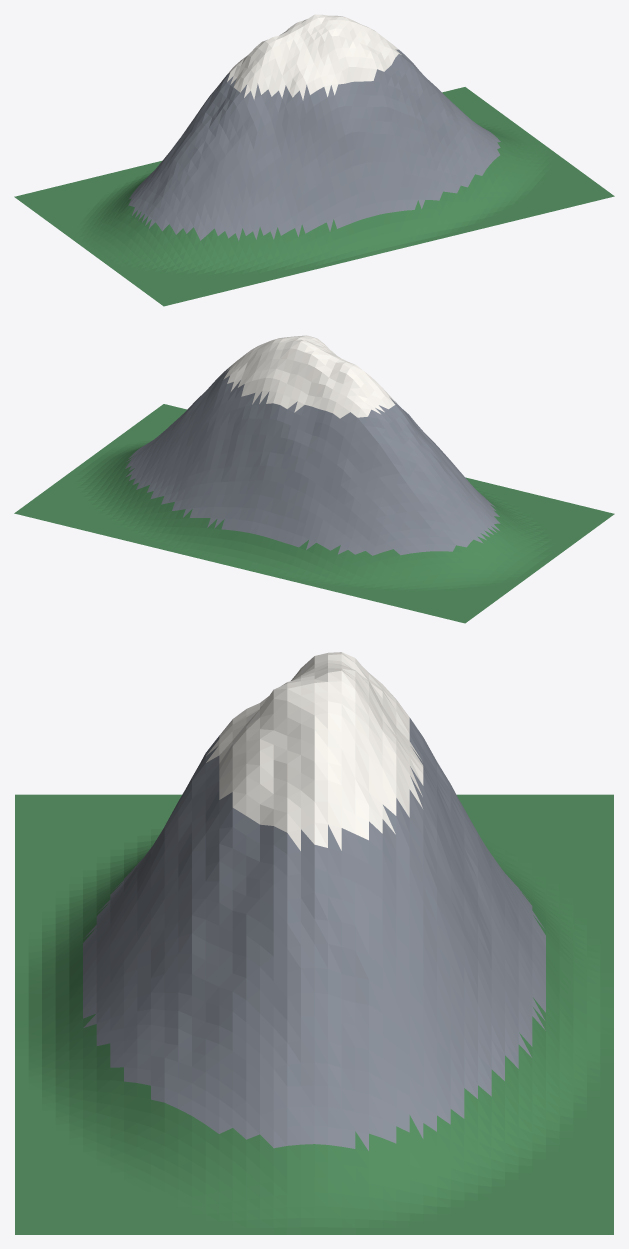
File: mountain.glb
3 renders of one model, top to bottom at view 1: azimuth 30°, elevation 25°; view 2: azimuth 150°, elevation 25°; view 3: azimuth 270°, elevation 25°, orthographic. The views are drawn at different scales.
Parts seen in each view (by area): view 1: mountain; view 2: mountain; view 3: mountain.
Part boxes in pixels (x1=…): mountain: x1=14, y1=14, x2=614, y2=306; mountain: x1=14, y1=335, x2=614, y2=623; mountain: x1=15, y1=652, x2=613, y2=1234.
Bounding box in the file's own units: 80 × 29.73 × 46.
